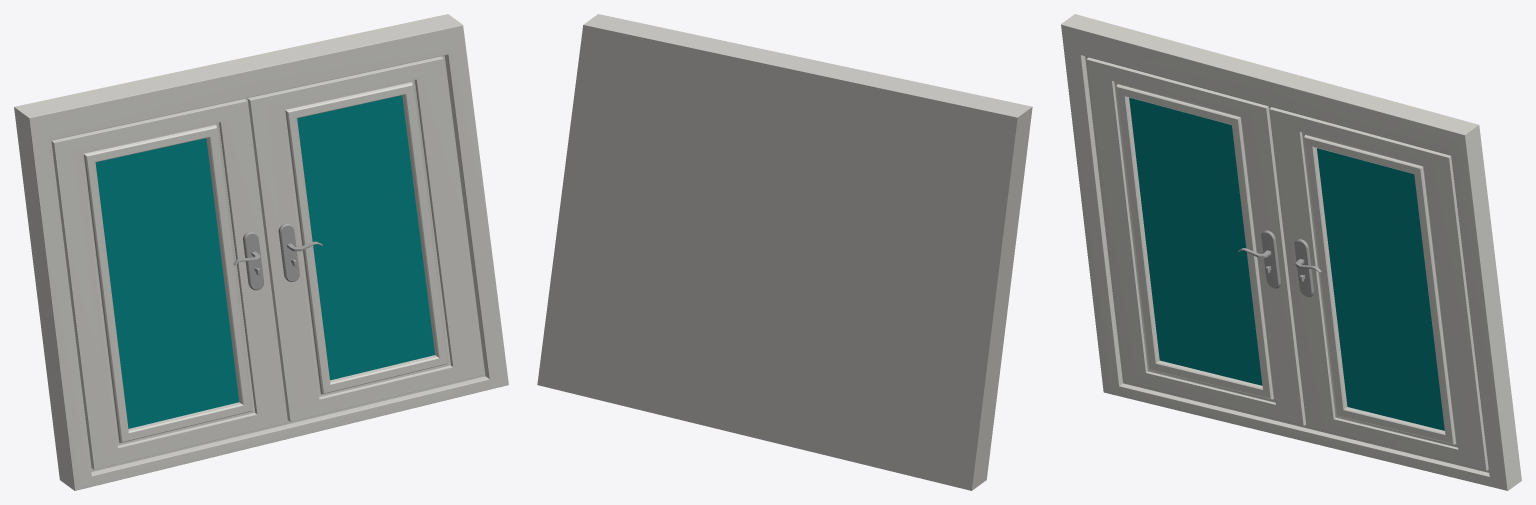
File: Mesh_EDH_Door2_.fbx
3 renders of one model, left to right at view 1: azimuth 30°, elevation 25°; view 2: azimuth 150°, elevation 25°; view 3: azimuth 330°, elevation 25°, orthographic. The views are drawn at different scales.
Visible parts, largest first — view 1: pCube77; view 2: pCube77; view 3: pCube77.
Part boxes in pixels (x1,y1,x2,y2): pCube77: (14, 14, 508, 490); pCube77: (537, 14, 1032, 490); pCube77: (1061, 14, 1521, 490).
Bounding box in the file's own units: 133 × 102 × 11.11.
